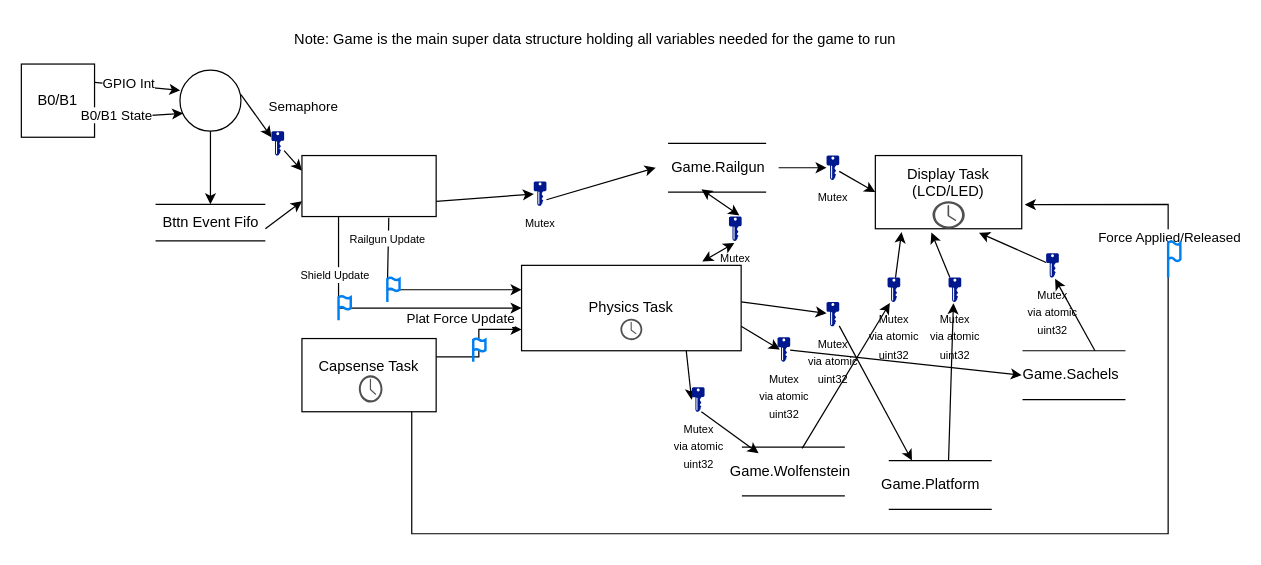
This 1261x565 diagram has some shape labels left out. Here are the shapes that lost their labels. From the top down, the centre of each, then its label:
point (210, 100): B0/B1 ISR
point (368, 185): Button Task
